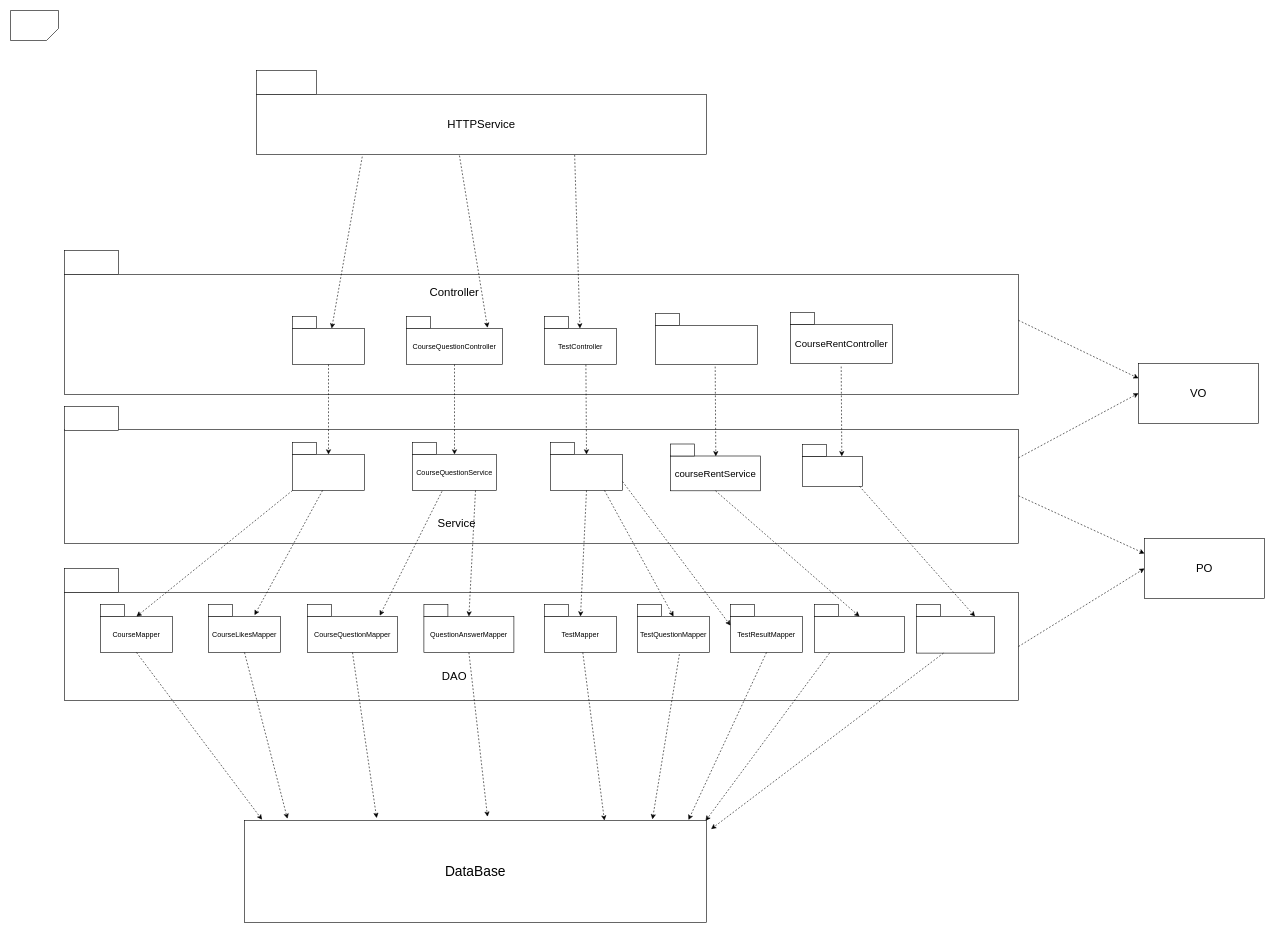
This 1275x933 diagram has some shape labels left out. The centre of each missing label's shape, as x and y in pixels:
"CourseController" belongs at point (328, 346).
"courseRentMapper" belongs at point (859, 634).
"CourseService" belongs at point (328, 472).
"CourseVIPController" belongs at point (706, 344).
"pkg" belongs at point (34, 25).
"TestService" belongs at point (586, 472).
"VIPMapper" belongs at point (955, 634).
"VIPService" belongs at point (832, 471).
